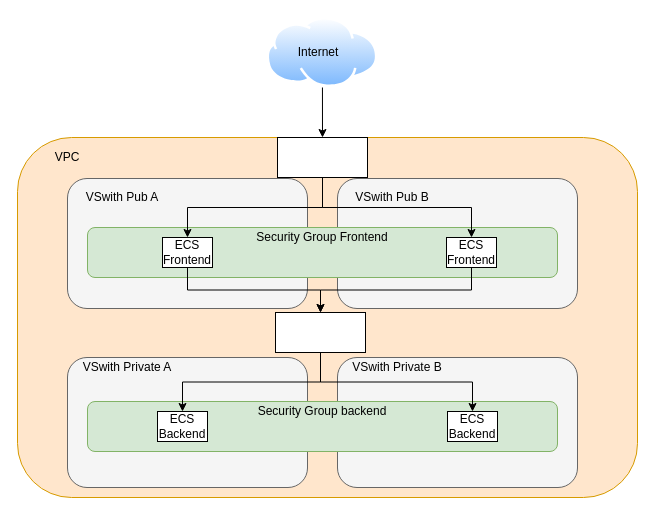
Some shapes in this 655 by 515 pixel diagram are drawn without their labels. Here are the shapes that lost their labels. From the top down, the box of each, then its label:
(276, 136, 368, 178): External Load Balacer
(274, 312, 366, 352): Internal Load Balacer
